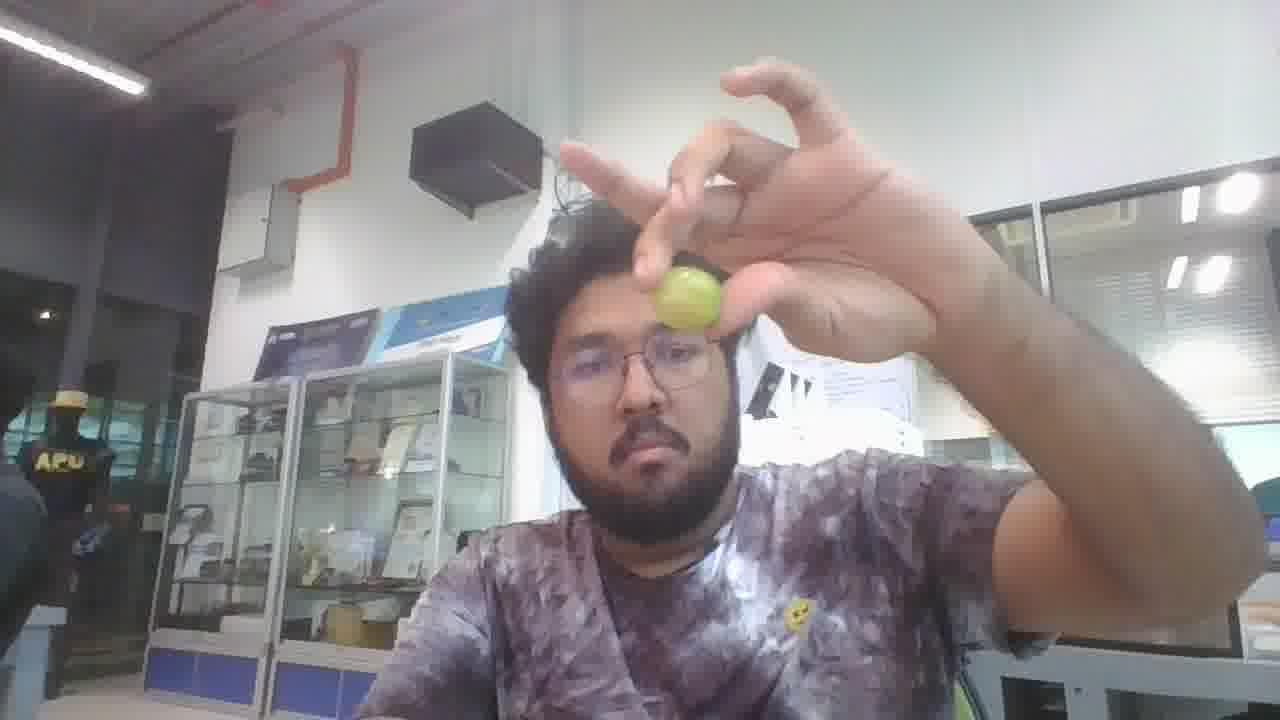green_cherry_tomato: (653, 266, 720, 331)
